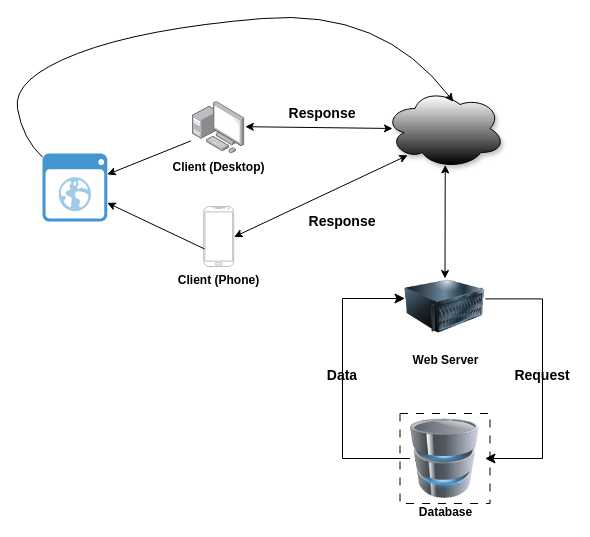
The diagram is 590 pixels wide and 537 high, and some of its shapes have lost their labels. The shapes that lost their labels are listed below. From the top down, each one's centre as x and y in pixels, then its label:
At point (445, 130): "RESTFUL API".
At point (74, 187): "User Interface (UI)".
